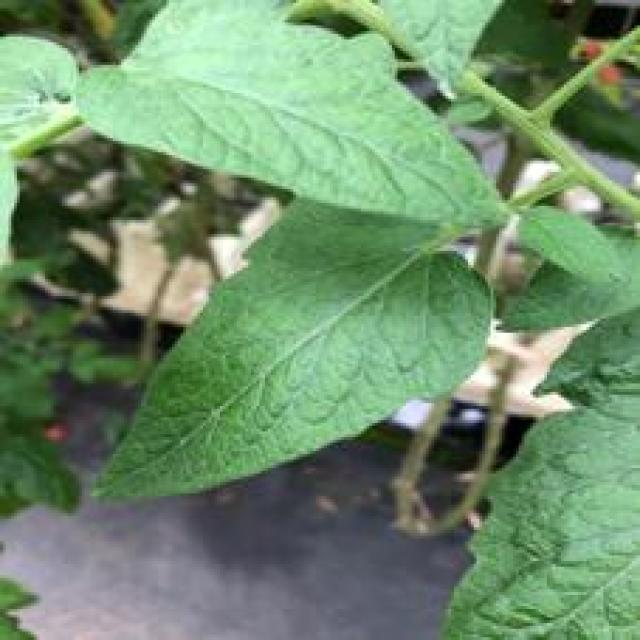Healthy Leaf: (91, 192, 496, 510), (68, 0, 509, 232), (512, 198, 628, 288)
